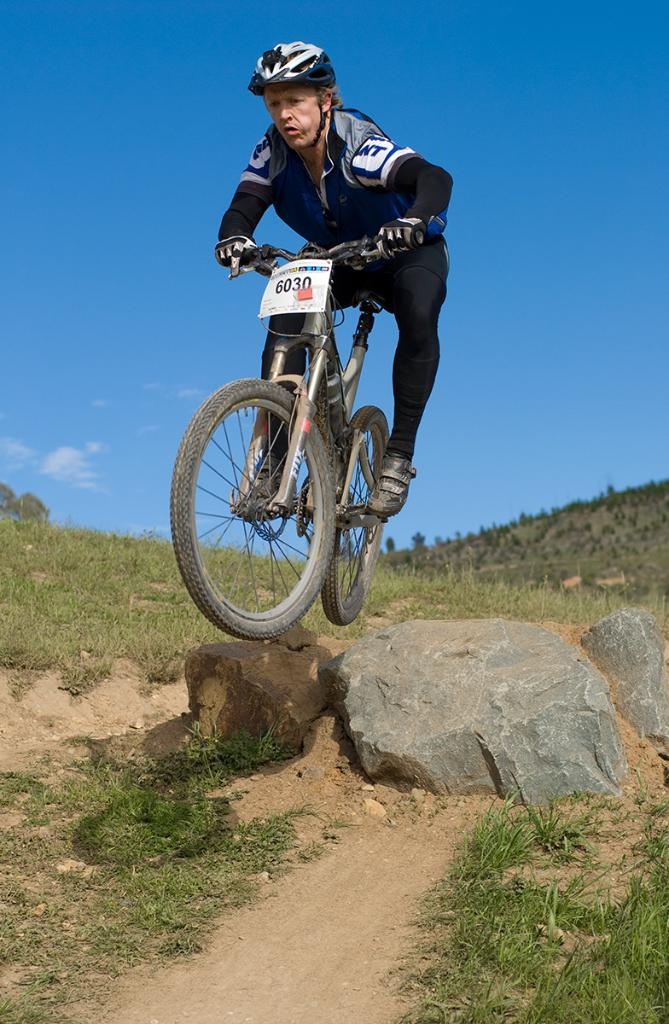Bike_toward: (119, 218, 449, 718)
